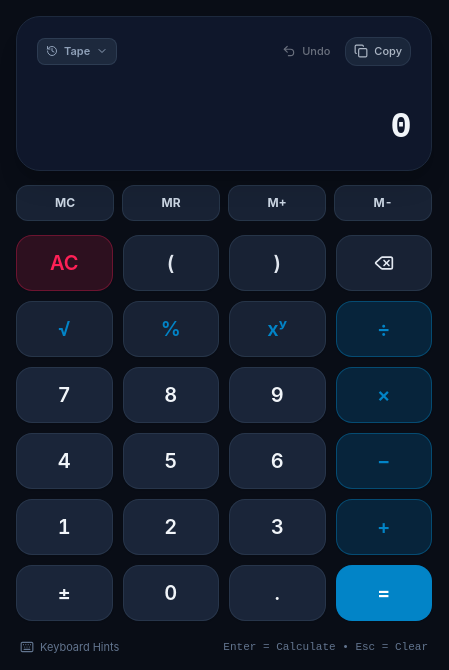
Test: BasicCalculator Component › enters digits and calculates basic addition
Click the button "7" at (64, 395), box 16,367 -> 112,423
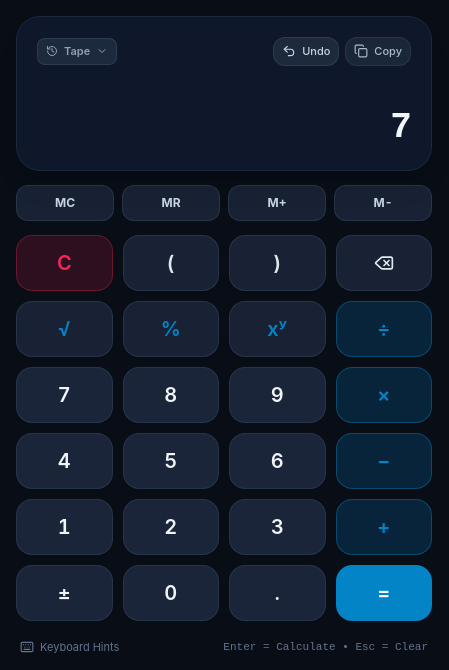
Click the button named "add" at (384, 527), box 336,499 -> 432,555
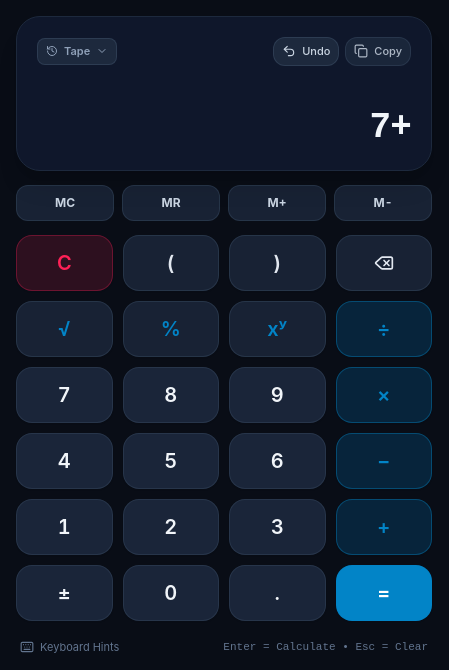
Click the button "5" at (171, 461), box 122,433 -> 219,489
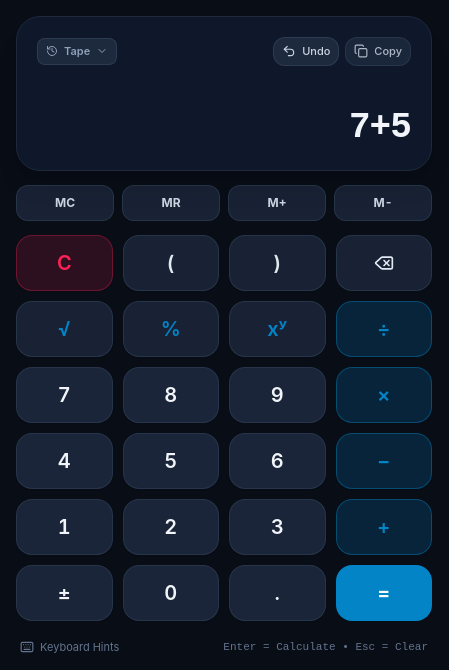
Click the button named "equals" at (384, 593), box 336,565 -> 432,621
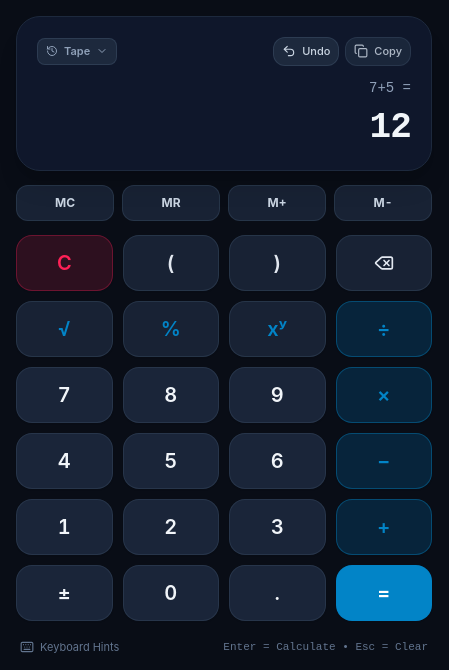
Result: the text with id "basic-calc-output" reads "12" at 370,107 -> 411,148
